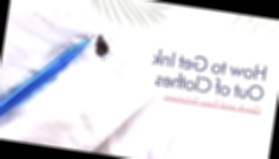ink: (94, 35, 110, 59)
